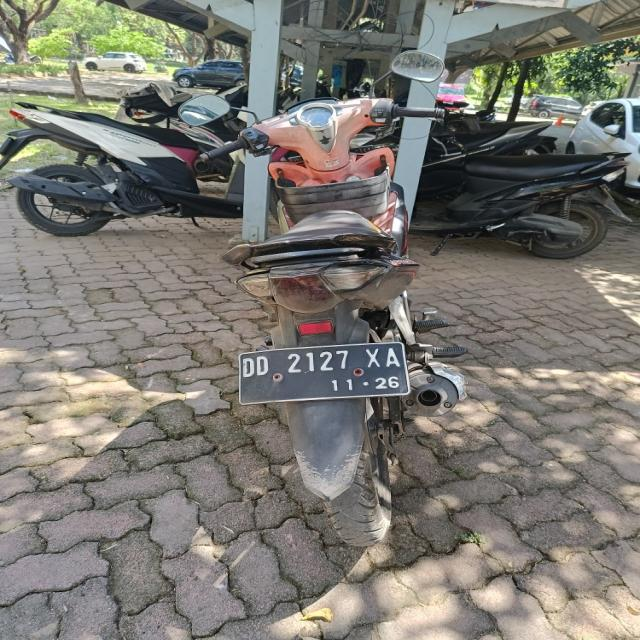plates: (235, 346, 416, 404)
